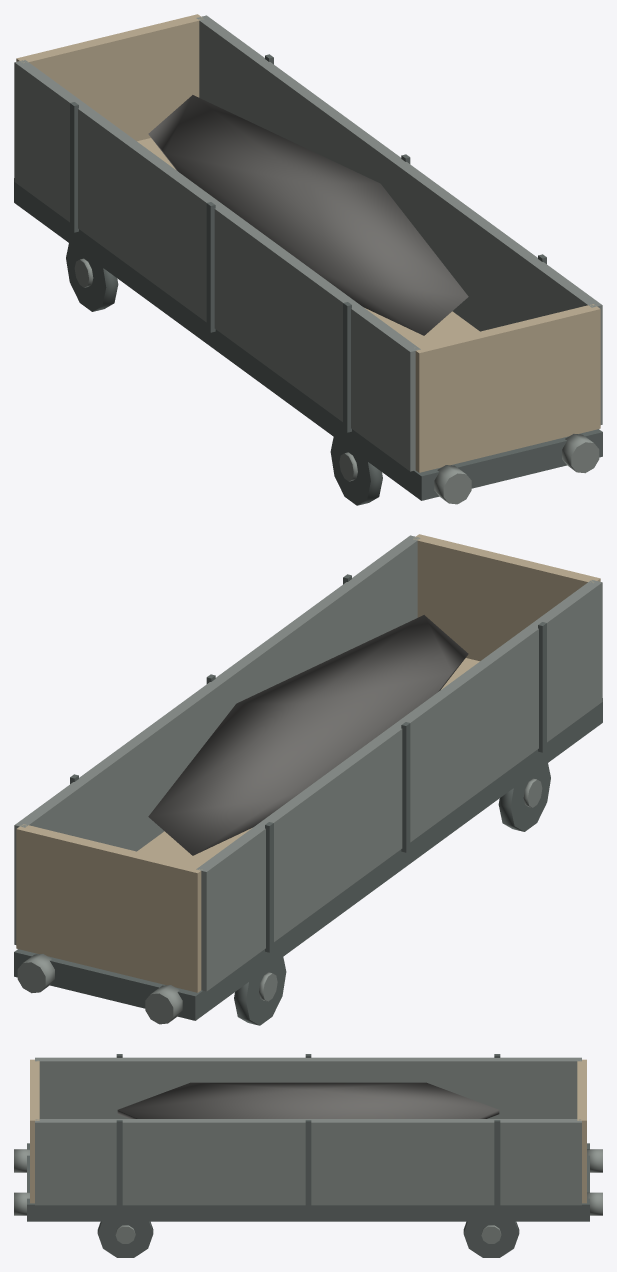
Rendered from rhine-hopper_lod1.glb.
3 views of the same model, one above another, from view 1: azimuth 30°, elevation 25°; view 2: azimuth 150°, elevation 25°; view 3: azimuth 270°, elevation 25° (orthographic). The views are drawn at different scales.
Parts seen in each view (by area): view 1: RF_WagonSide.001, RF_CoalLoad, RF_WagonSide, RF_WagonEnd.001, RF_WagonEnd, RF_Chassis, RF_Wheel.003, RF_Wheel.001, RF_FreightFloor, RF_WagonStrap.002, RF_Buffer.001, RF_Buffer.002 (+2 smaller); view 2: RF_WagonSide.001, RF_CoalLoad, RF_WagonSide, RF_WagonEnd, RF_WagonEnd.001, RF_Chassis, RF_Wheel.001, RF_Wheel.003, RF_FreightFloor, RF_WagonStrap.002, RF_Buffer.003, RF_Buffer (+2 smaller); view 3: RF_WagonSide, RF_WagonSide.001, RF_CoalLoad, RF_Chassis, RF_Wheel.002, RF_Wheel, RF_WagonEnd.001, RF_WagonEnd, RF_WagonStrap.004, RF_WagonStrap.005, RF_WagonStrap, RF_Buffer.001 (+5 smaller).
Part boxes in pixels (<box>): RF_WagonSide.001: <box>14,60,420,471</box>; RF_CoalLoad: <box>148,95,468,335</box>; RF_WagonSide: <box>196,15,602,424</box>; RF_WagonEnd.001: <box>415,304,600,472</box>; RF_WagonEnd: <box>16,14,203,141</box>; RF_Chassis: <box>14,178,602,500</box>; RF_Wheel.003: <box>66,243,118,311</box>; RF_Wheel.001: <box>330,437,382,505</box>; RF_FreightFloor: <box>137,138,479,346</box>; RF_WagonStrap.002: <box>206,202,215,332</box>; RF_Buffer.001: <box>434,465,471,504</box>; RF_Buffer.002: <box>562,434,599,473</box>; RF_WagonSide.001: <box>196,580,602,991</box>; RF_CoalLoad: <box>148,615,468,855</box>; RF_WagonSide: <box>14,535,420,944</box>; RF_WagonEnd: <box>16,824,202,992</box>; RF_WagonEnd.001: <box>413,534,600,661</box>; RF_Chassis: <box>14,698,602,1020</box>; RF_Wheel.001: <box>498,763,550,831</box>; RF_Wheel.003: <box>234,957,286,1025</box>; RF_FreightFloor: <box>137,658,479,866</box>; RF_WagonStrap.002: <box>401,722,410,852</box>; RF_Buffer.003: <box>145,985,182,1024</box>; RF_Buffer: <box>17,954,54,993</box>; RF_WagonSide: <box>35,1119,581,1205</box>; RF_WagonSide.001: <box>35,1057,581,1118</box>; RF_CoalLoad: <box>117,1082,499,1118</box>; RF_Chassis: <box>27,1143,589,1221</box>; RF_Wheel.002: <box>97,1221,153,1257</box>; RF_Wheel: <box>463,1221,519,1257</box>; RF_WagonEnd.001: <box>30,1059,39,1203</box>; RF_WagonEnd: <box>577,1059,586,1203</box>; RF_WagonStrap.004: <box>116,1120,122,1208</box>; RF_WagonStrap.005: <box>305,1120,311,1208</box>; RF_WagonStrap: <box>494,1120,500,1208</box>; RF_Buffer.001: <box>14,1149,29,1172</box>.
Bounding box in the file's own units: 2.97 × 2.87 × 10.98.
